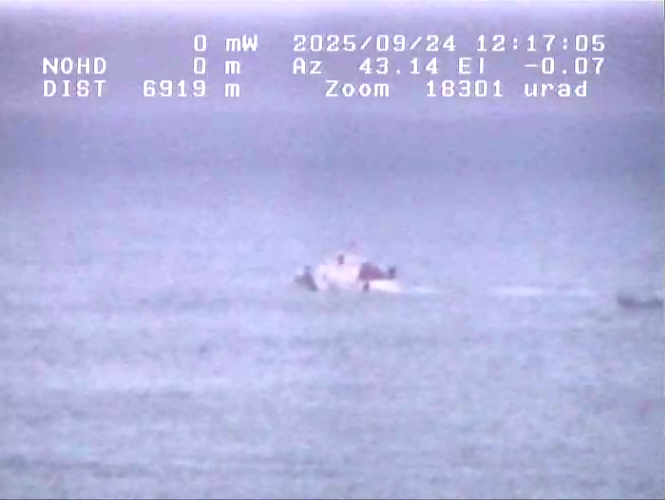FISHING_BOAT: (600, 277, 665, 320)
PATROL_VESSEL: (279, 236, 430, 306)
